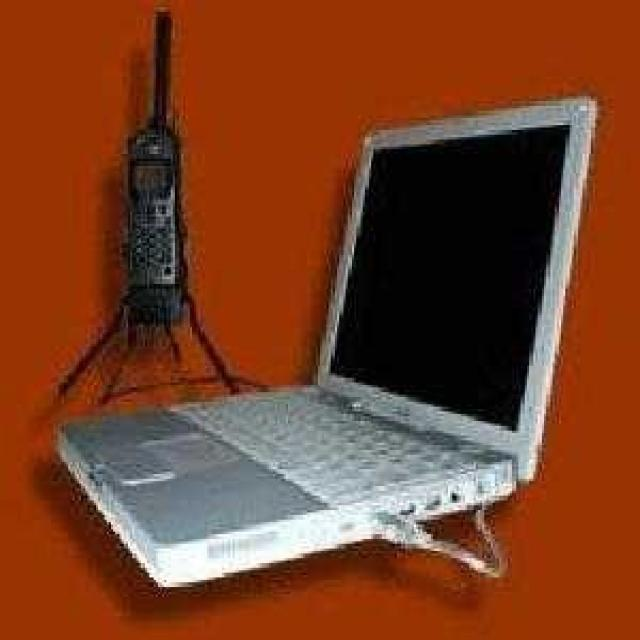laptop: (128, 89, 608, 600)
